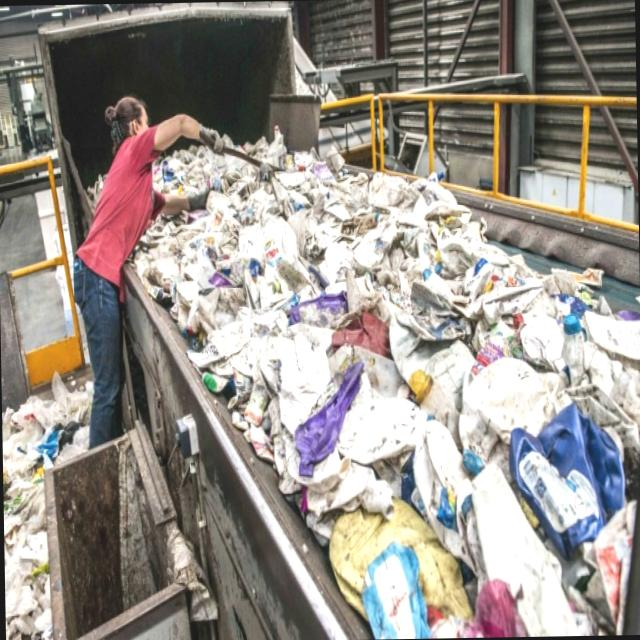garbage: (149, 114, 640, 640)
